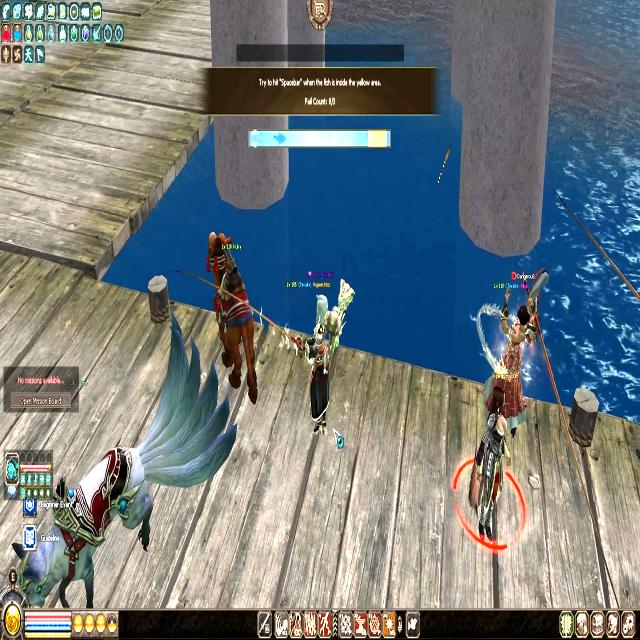fishes: (272, 131, 286, 145)
